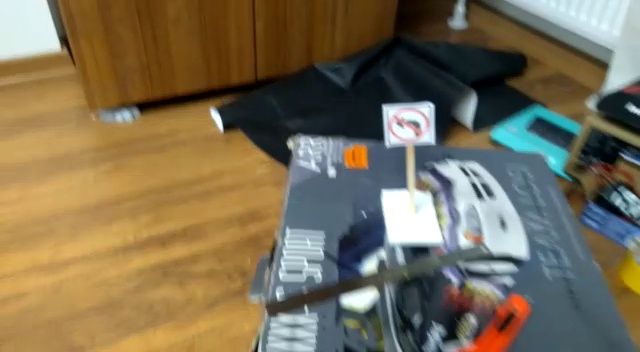sola_donulmez: (387, 105, 429, 146)
